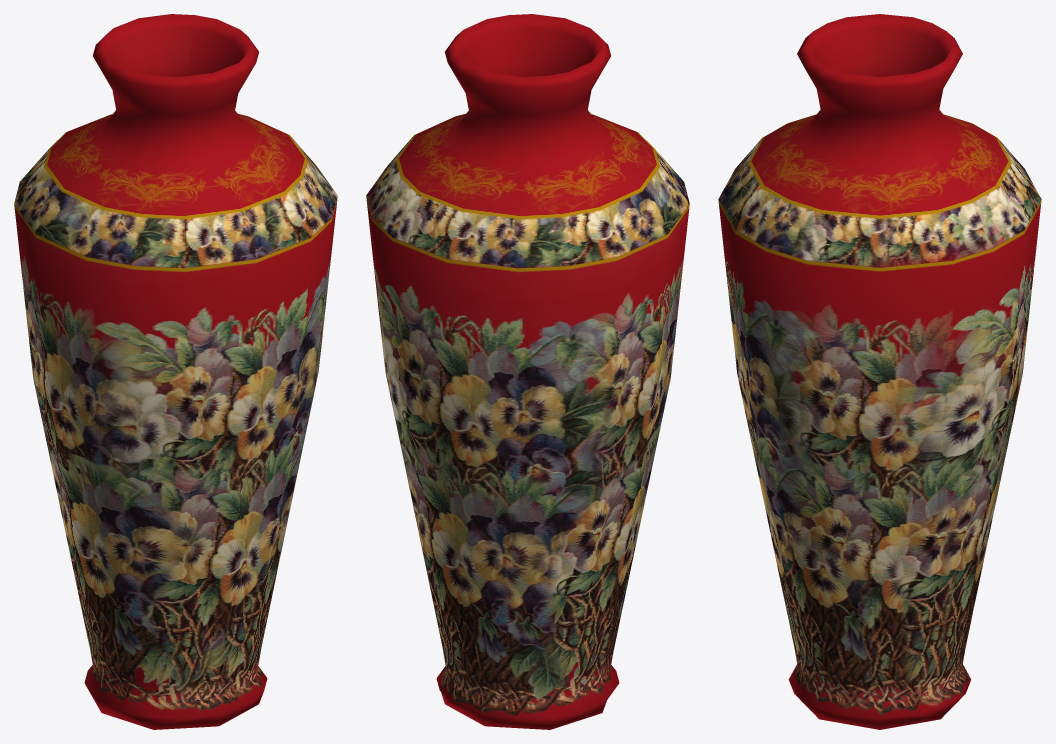
The model's file is JVase_5_1.fbx.
3 renders of one model, left to right at view 1: azimuth 30°, elevation 25°; view 2: azimuth 150°, elevation 25°; view 3: azimuth 270°, elevation 25°, orthographic.
Parts seen in each view (by area): view 1: JVase_5_1; view 2: JVase_5_1; view 3: JVase_5_1.
Part boxes in pixels (bbox=[...]): JVase_5_1: bbox=[14, 14, 337, 729]; JVase_5_1: bbox=[366, 14, 689, 729]; JVase_5_1: bbox=[718, 14, 1041, 729].
Bounding box in the file's own units: 26.88 × 59.49 × 26.88.
